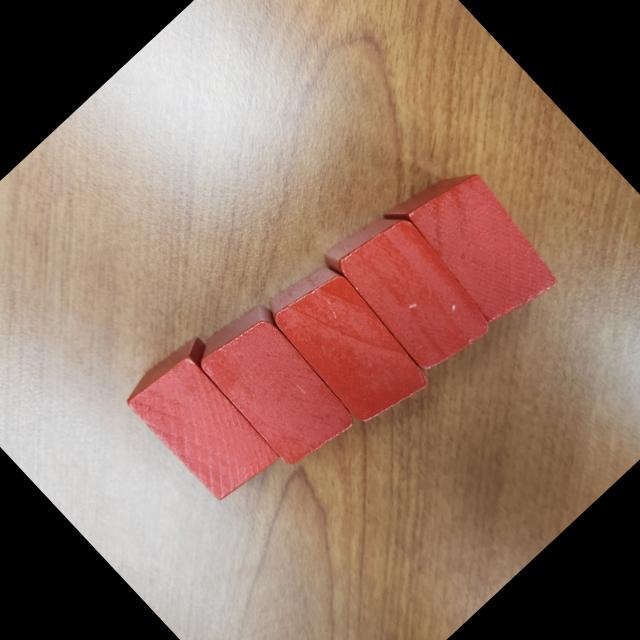red: (381, 147, 570, 340), (317, 194, 504, 385), (118, 328, 299, 512), (261, 256, 440, 438), (188, 295, 364, 475)
